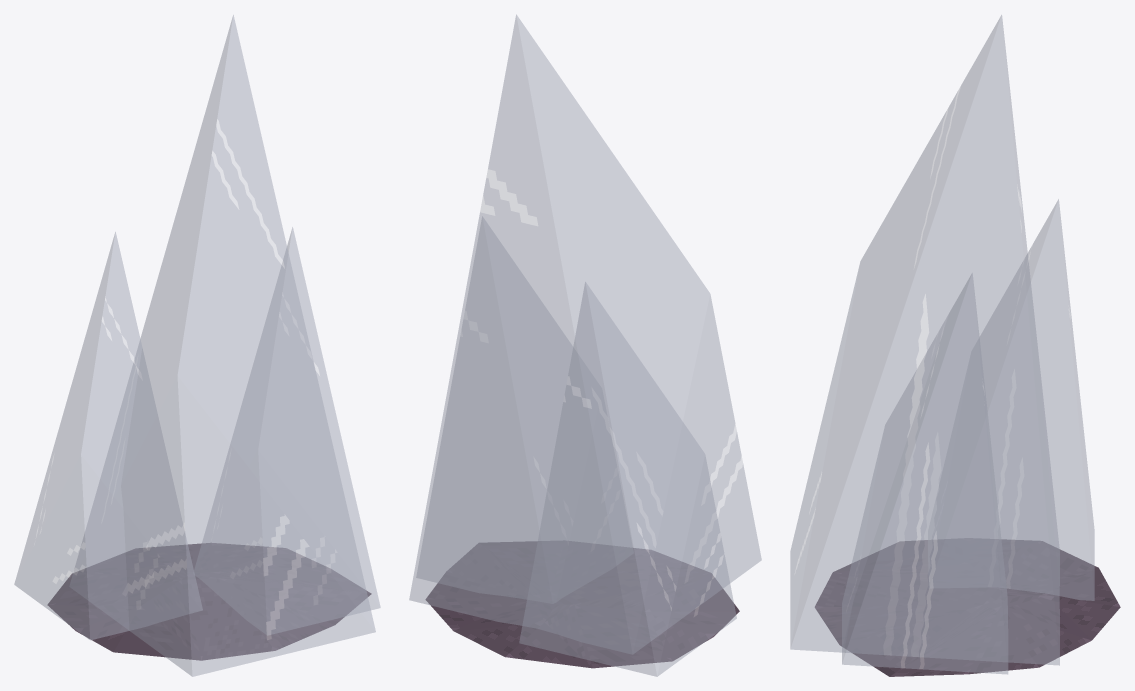
Rendered from f_portal_dungeon_reward_increaser.glb.
3 renders of one model, left to right at view 1: azimuth 30°, elevation 25°; view 2: azimuth 150°, elevation 25°; view 3: azimuth 270°, elevation 25°, orthographic. The views are drawn at different scales.
Visible parts, largest first — view 1: block_jagged-crystal-spire (×3), block_portal-scar-base; view 2: block_jagged-crystal-spire (×3), block_portal-scar-base; view 3: block_jagged-crystal-spire (×3), block_portal-scar-base.
Part boxes in pixels (box(x1,y1,x2,y2)): block_jagged-crystal-spire (×3): box(14, 15, 380, 676); block_portal-scar-base: box(47, 543, 371, 660); block_jagged-crystal-spire (×3): box(409, 14, 761, 676); block_portal-scar-base: box(425, 541, 739, 668); block_jagged-crystal-spire (×3): box(790, 15, 1094, 674); block_portal-scar-base: box(815, 539, 1120, 676).
Size of the model in its own units: 0.687 by 1.37 by 0.6665.
Materials: 2 (2 with a texture image).
